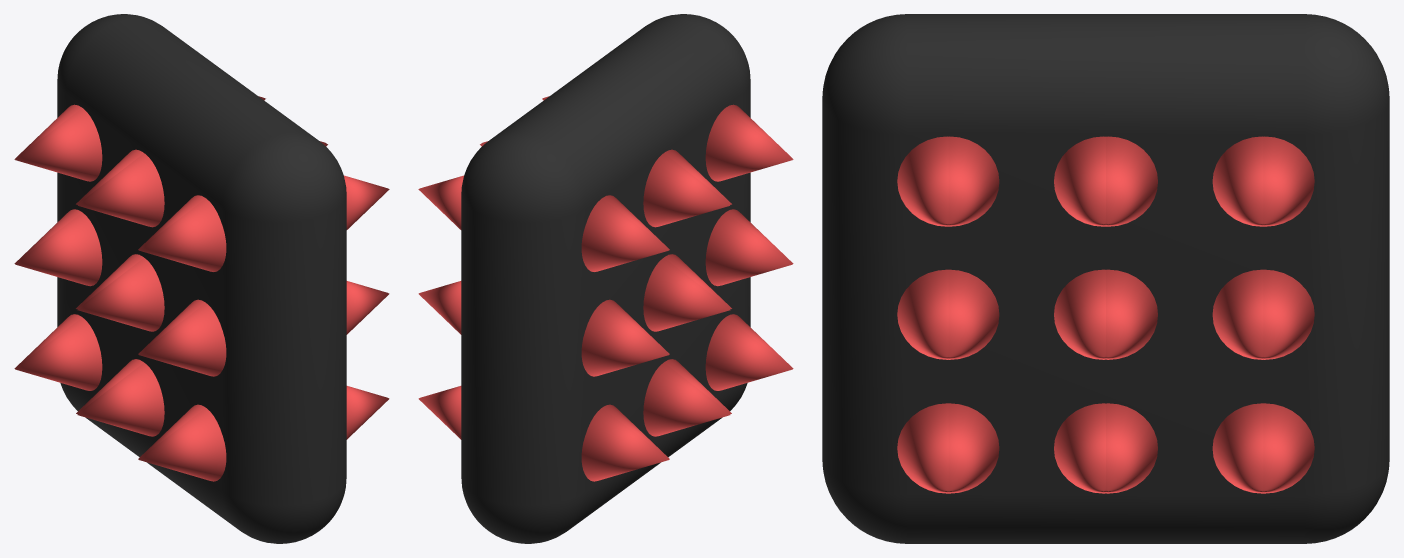
Rendered from trap_1.fbx.
The picture shows the model from 3 angles, left to right: view 1: azimuth 30°, elevation 25°; view 2: azimuth 150°, elevation 25°; view 3: azimuth 270°, elevation 25°; orthographic projection. The views are drawn at different scales.
Visible parts, largest first — view 1: Cone.010; view 2: Cone.010; view 3: Cone.010.
Part boxes in pixels (x1=…): Cone.010: x1=14, y1=14, x2=389, y2=543; Cone.010: x1=418, y1=14, x2=793, y2=543; Cone.010: x1=822, y1=14, x2=1389, y2=543.
Size of the model in its own units: 130 by 200 by 200.
